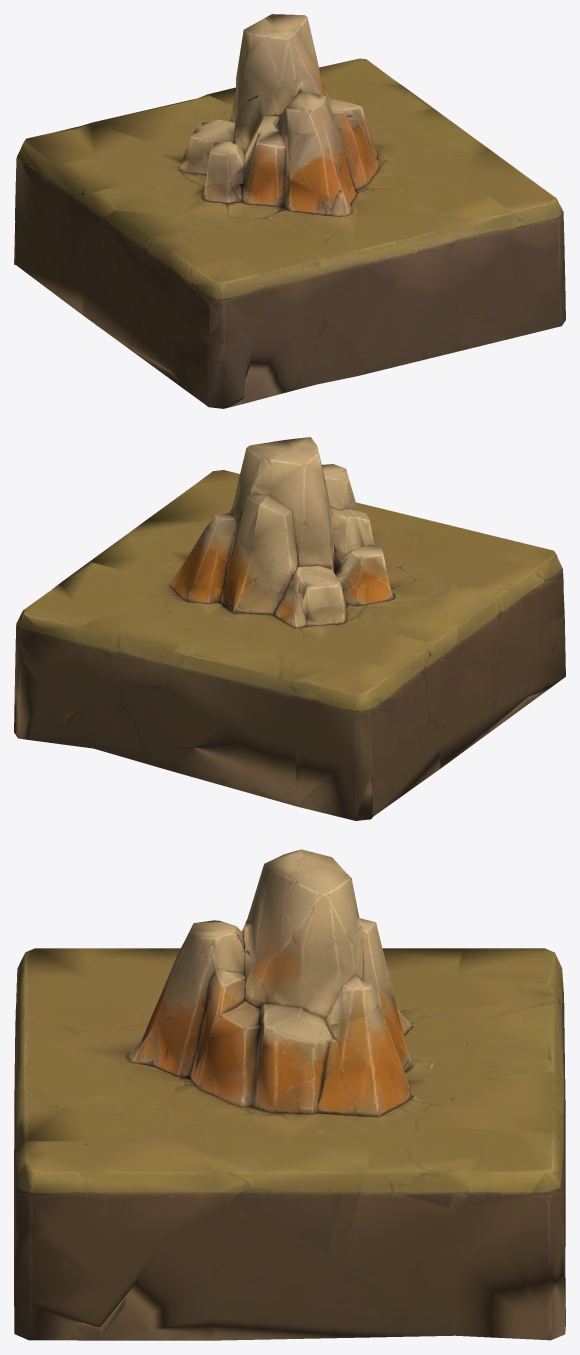
Rendered from mountain.glb.
3 views of the same model, one above another, from view 1: azimuth 30°, elevation 25°; view 2: azimuth 150°, elevation 25°; view 3: azimuth 270°, elevation 25° (orthographic). The views are drawn at different scales.
Size of the model in its own units: 1.9 by 1.34 by 1.89.
1 material, 1 textured.
